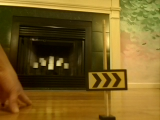right: (87, 70, 127, 89)
